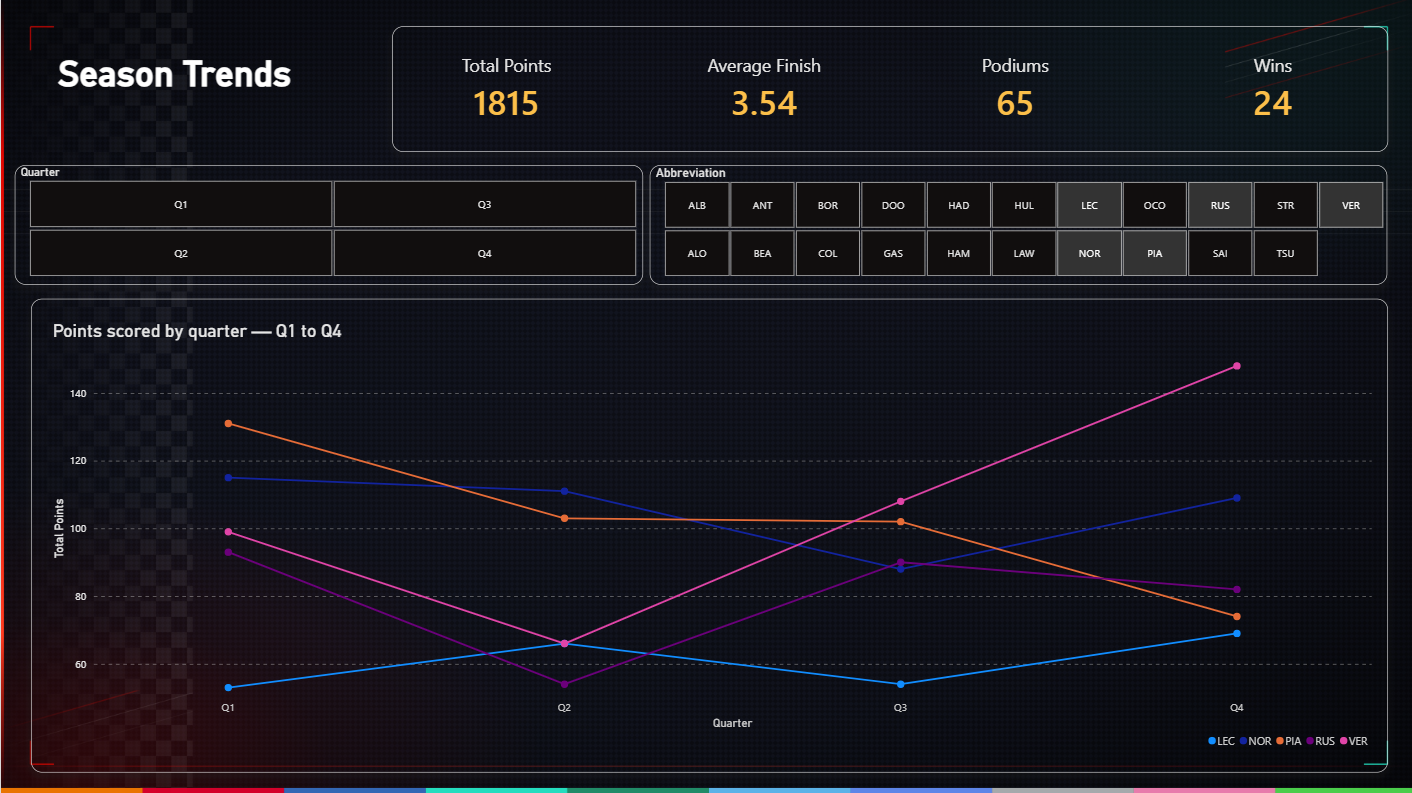

This screenshot's page, from the dashboard's own definition file:
{"tool":"powerbi","page":{"name":"Season Trends","canvas":[1920,1080],"ordinal":3},"visuals":[{"type":"shape","box":[880,223.3,1000,162.2],"z":0},{"type":"shape","box":[18.9,223.3,852.2,162.2],"z":1000},{"type":"shape","box":[40,405.6,1840,642.2],"z":2000},{"type":"shape","box":[530,35,1350,170],"z":3000},{"type":"lineChart","title":"Points scored by quarter — Q1 to Q4","fields":{"Category":["2025_quarterly_summary.quarter"],"Series":["2025_quarterly_summary.abbreviation"],"Y":["Sum(2025_quarterly_summary.total_points)"]},"box":[53.8,420.8,1820,614.6],"z":4000},{"type":"cardVisual","fields":{"Data":["2025_quarterly_summary.Quarterly Total Points"]},"box":[530,50,310,140],"z":5000},{"type":"cardVisual","fields":{"Data":["2025_quarterly_summary.Average Finish (quarter)"]},"box":[880,50,310,140],"z":6000},{"type":"cardVisual","fields":{"Data":["2025_quarterly_summary.Podiums (quarter)"]},"box":[1220,50,310,140],"z":7000},{"type":"cardVisual","fields":{"Data":["2025_quarterly_summary.Wins (quarter)"]},"box":[1570,50,310,140],"z":8000},{"type":"slicer","fields":{"Values":["2025_quarterly_summary.abbreviation"]},"box":[880,223.3,1013.3,152.2],"z":9000},{"type":"slicer","fields":{"Values":["2025_quarterly_summary.quarter"]},"box":[18.9,223.3,861.1,152.2],"z":10000},{"type":"textbox","box":[20,72,430,98],"z":10001}]}

Visuals, with their boxes in screenshot pixels (x1, y1, x2, y2), scaled from the page's 1920x1080 canvas onto the 1412x793 screenshot:
shape: [647, 164, 1383, 283]
shape: [14, 164, 641, 283]
shape: [29, 298, 1383, 769]
shape: [390, 26, 1383, 151]
"Points scored by quarter — Q1 to Q4" lineChart: [40, 309, 1378, 760]
cardVisual - 2025_quarterly_summary.Quarterly Total Points: [390, 37, 618, 140]
cardVisual - 2025_quarterly_summary.Average Finish (quarter): [647, 37, 875, 140]
cardVisual - 2025_quarterly_summary.Podiums (quarter): [897, 37, 1125, 140]
cardVisual - 2025_quarterly_summary.Wins (quarter): [1155, 37, 1383, 140]
slicer - 2025_quarterly_summary.abbreviation: [647, 164, 1392, 276]
slicer - 2025_quarterly_summary.quarter: [14, 164, 647, 276]
textbox: [15, 53, 331, 125]
